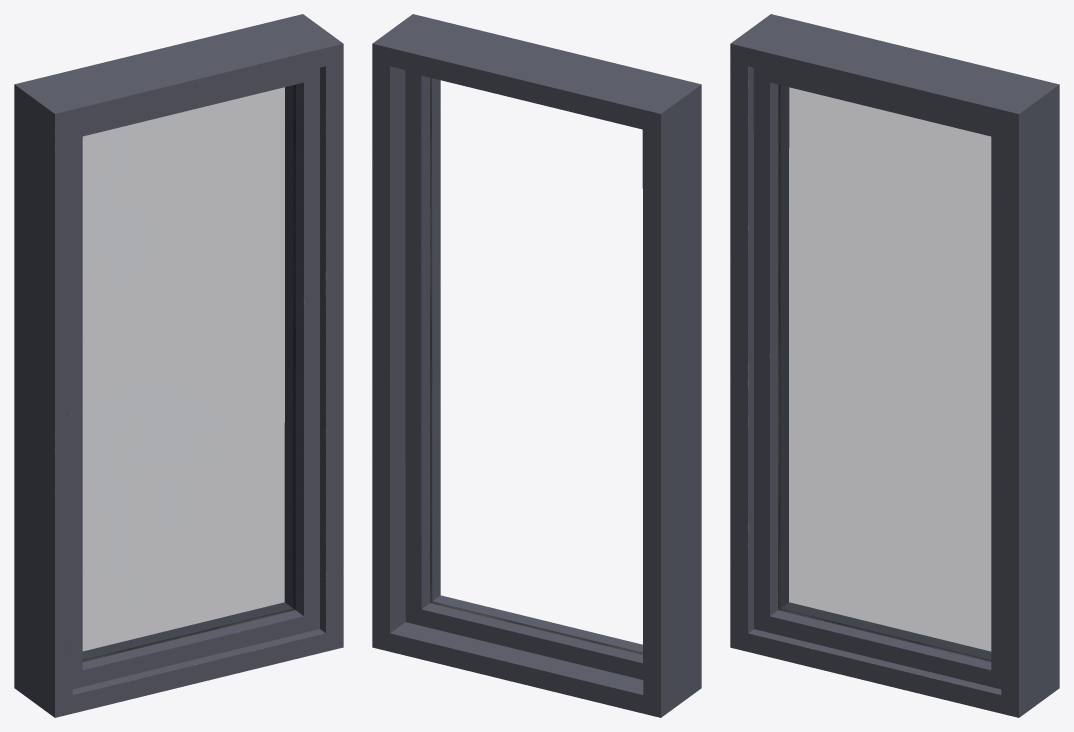
File: SM_Window_16th_01.glb
The picture shows the model from 3 angles, left to right: view 1: azimuth 30°, elevation 25°; view 2: azimuth 150°, elevation 25°; view 3: azimuth 330°, elevation 25°; orthographic projection.
Visible parts, largest first — view 1: SM_Window_16th_01; view 2: SM_Window_16th_01; view 3: SM_Window_16th_01.
Part boxes in pixels (x1,y1,x2,y2): SM_Window_16th_01: (14,14,343,717); SM_Window_16th_01: (372,14,701,717); SM_Window_16th_01: (730,14,1059,717).
Size of the model in its own units: 1 by 2 by 0.2434.
2 materials, 2 textured.
